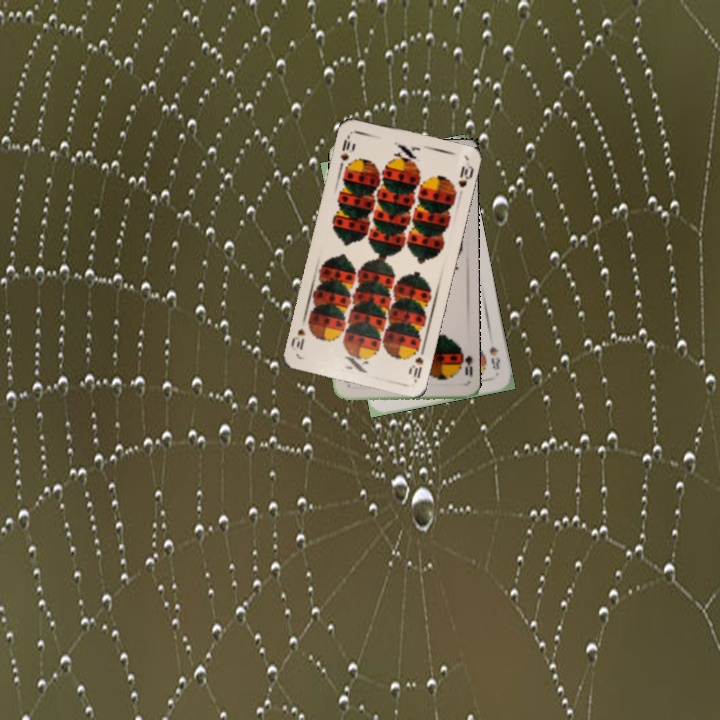S10: (406, 343, 428, 383), (336, 131, 357, 163)
S8: (485, 342, 503, 372)
SO: (455, 343, 475, 380)
